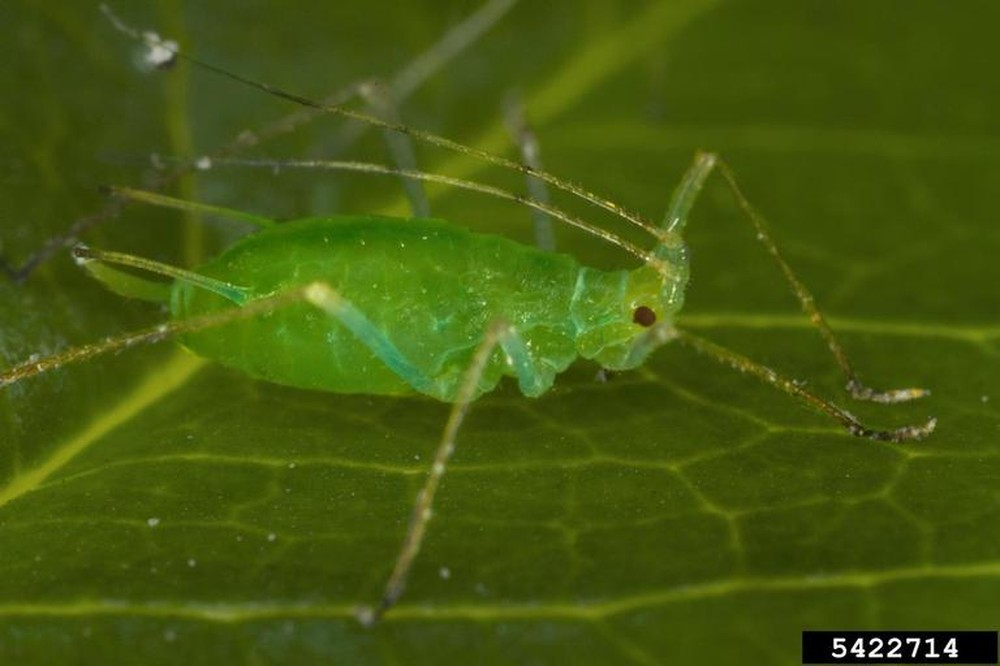Pulgon: (53, 42, 903, 561)
